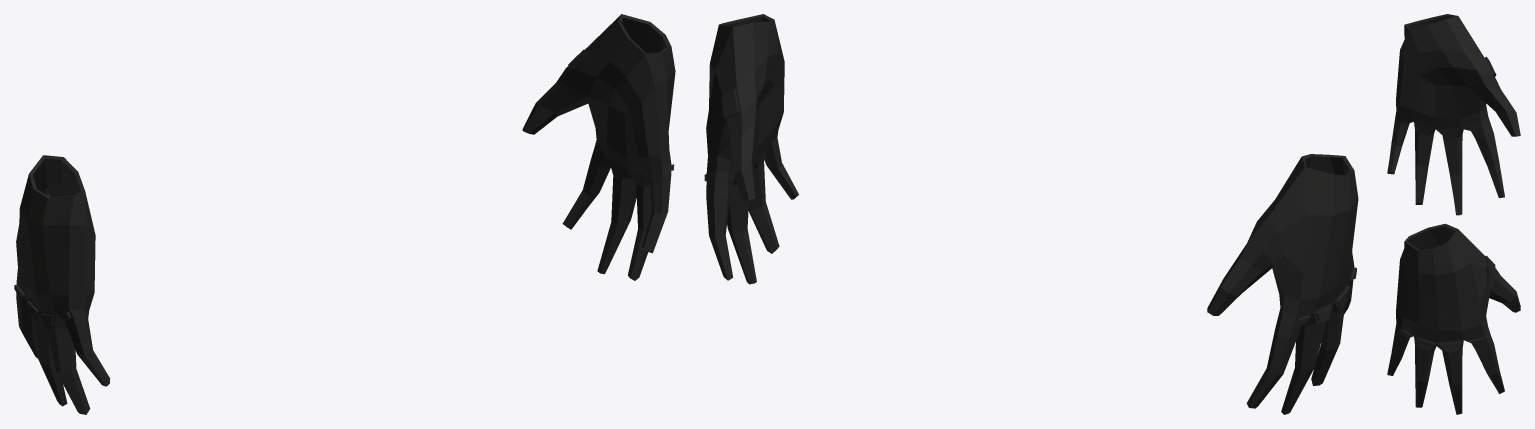
File: Armor_Gauntlet.fbx
3 renders of one model, left to right at view 1: azimuth 30°, elevation 25°; view 2: azimuth 150°, elevation 25°; view 3: azimuth 270°, elevation 25°, orthographic. The views are drawn at different scales.
Parts seen in each view (by area): view 1: Armor_Gauntlet; view 2: Armor_Gauntlet; view 3: Armor_Gauntlet.
Boxes of the visible parts, bbox=[...] form: Armor_Gauntlet: bbox=[14, 14, 675, 414]; Armor_Gauntlet: bbox=[704, 14, 1358, 414]; Armor_Gauntlet: bbox=[1387, 14, 1520, 414].
Bounding box in the file's own units: 52.82 × 20.21 × 12.65.
